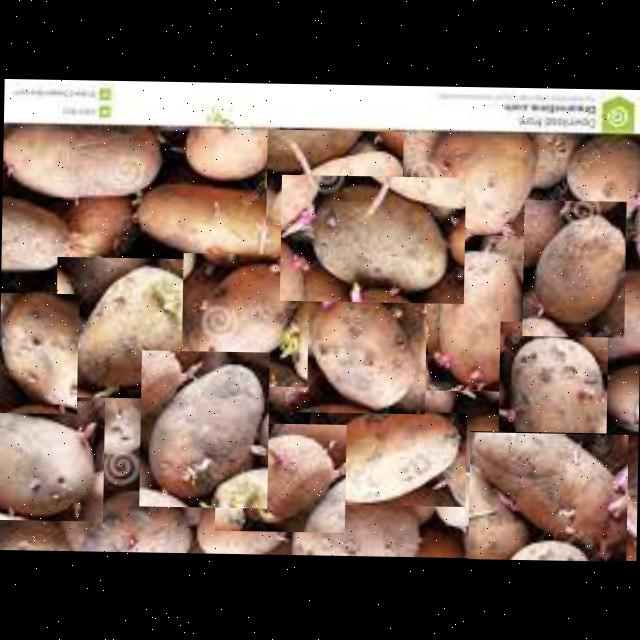Sprouted potato: (280, 174, 466, 304), (55, 256, 221, 399), (468, 431, 628, 562), (138, 350, 270, 508), (284, 282, 426, 414), (181, 252, 309, 386), (498, 321, 608, 467), (420, 130, 546, 256), (426, 234, 526, 392), (308, 409, 466, 506), (214, 422, 346, 532), (522, 200, 626, 338), (266, 129, 404, 227), (1, 193, 132, 290), (0, 399, 104, 521), (279, 487, 426, 558), (0, 292, 78, 413)
